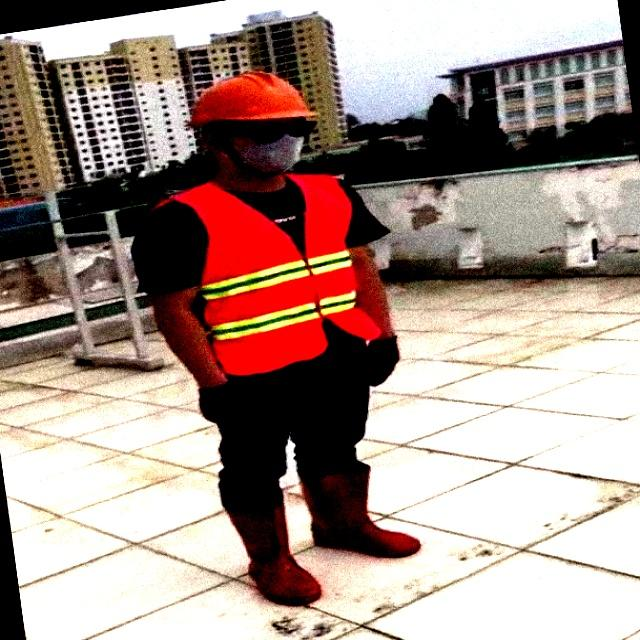Capacete: (189, 71, 314, 127)
Colete: (171, 175, 379, 374)
Oculos: (238, 119, 315, 143)
